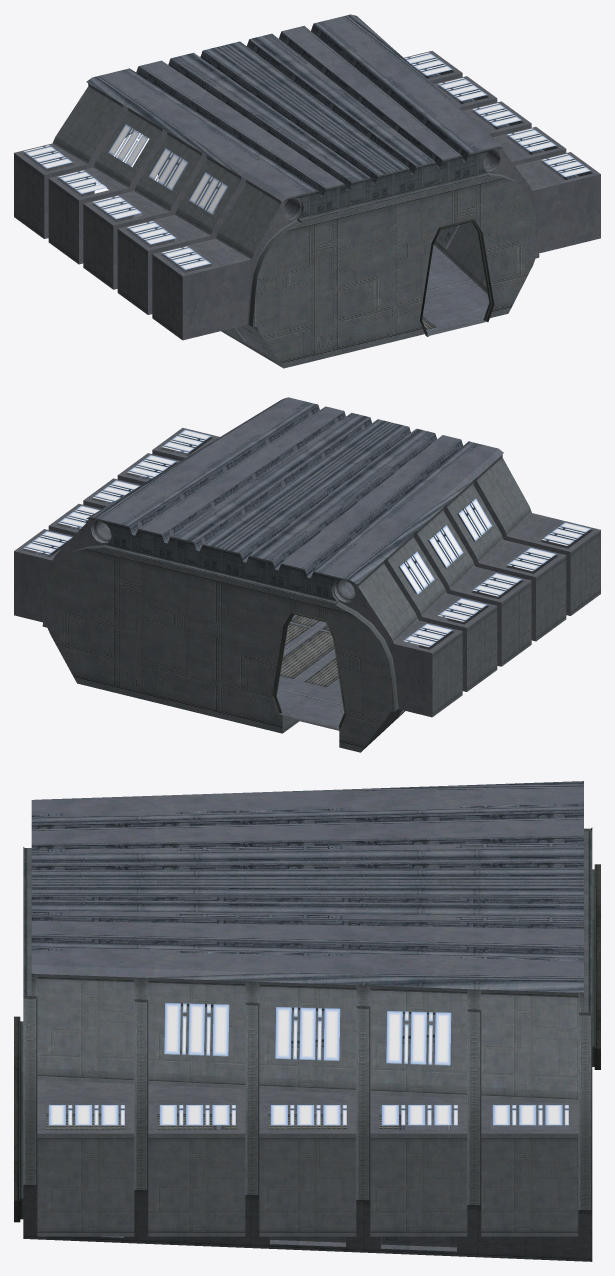
The model's file is vt49_r3_storage3_mesh_r3.fbx.
3 views of the same model, one above another, from view 1: azimuth 30°, elevation 25°; view 2: azimuth 150°, elevation 25°; view 3: azimuth 270°, elevation 25° (orthographic). The views are drawn at different scales.
Visible parts, largest first — view 1: mesh_node; view 2: mesh_node; view 3: mesh_node.
Boxes of the visible parts, x1,y1,x2,y2 form: mesh_node: (14,14,600,368); mesh_node: (14,397,600,752); mesh_node: (14,781,600,1261).
Bounding box in the file's own units: 13.97 × 5.37 × 10.58.
9 materials, 9 textured.
